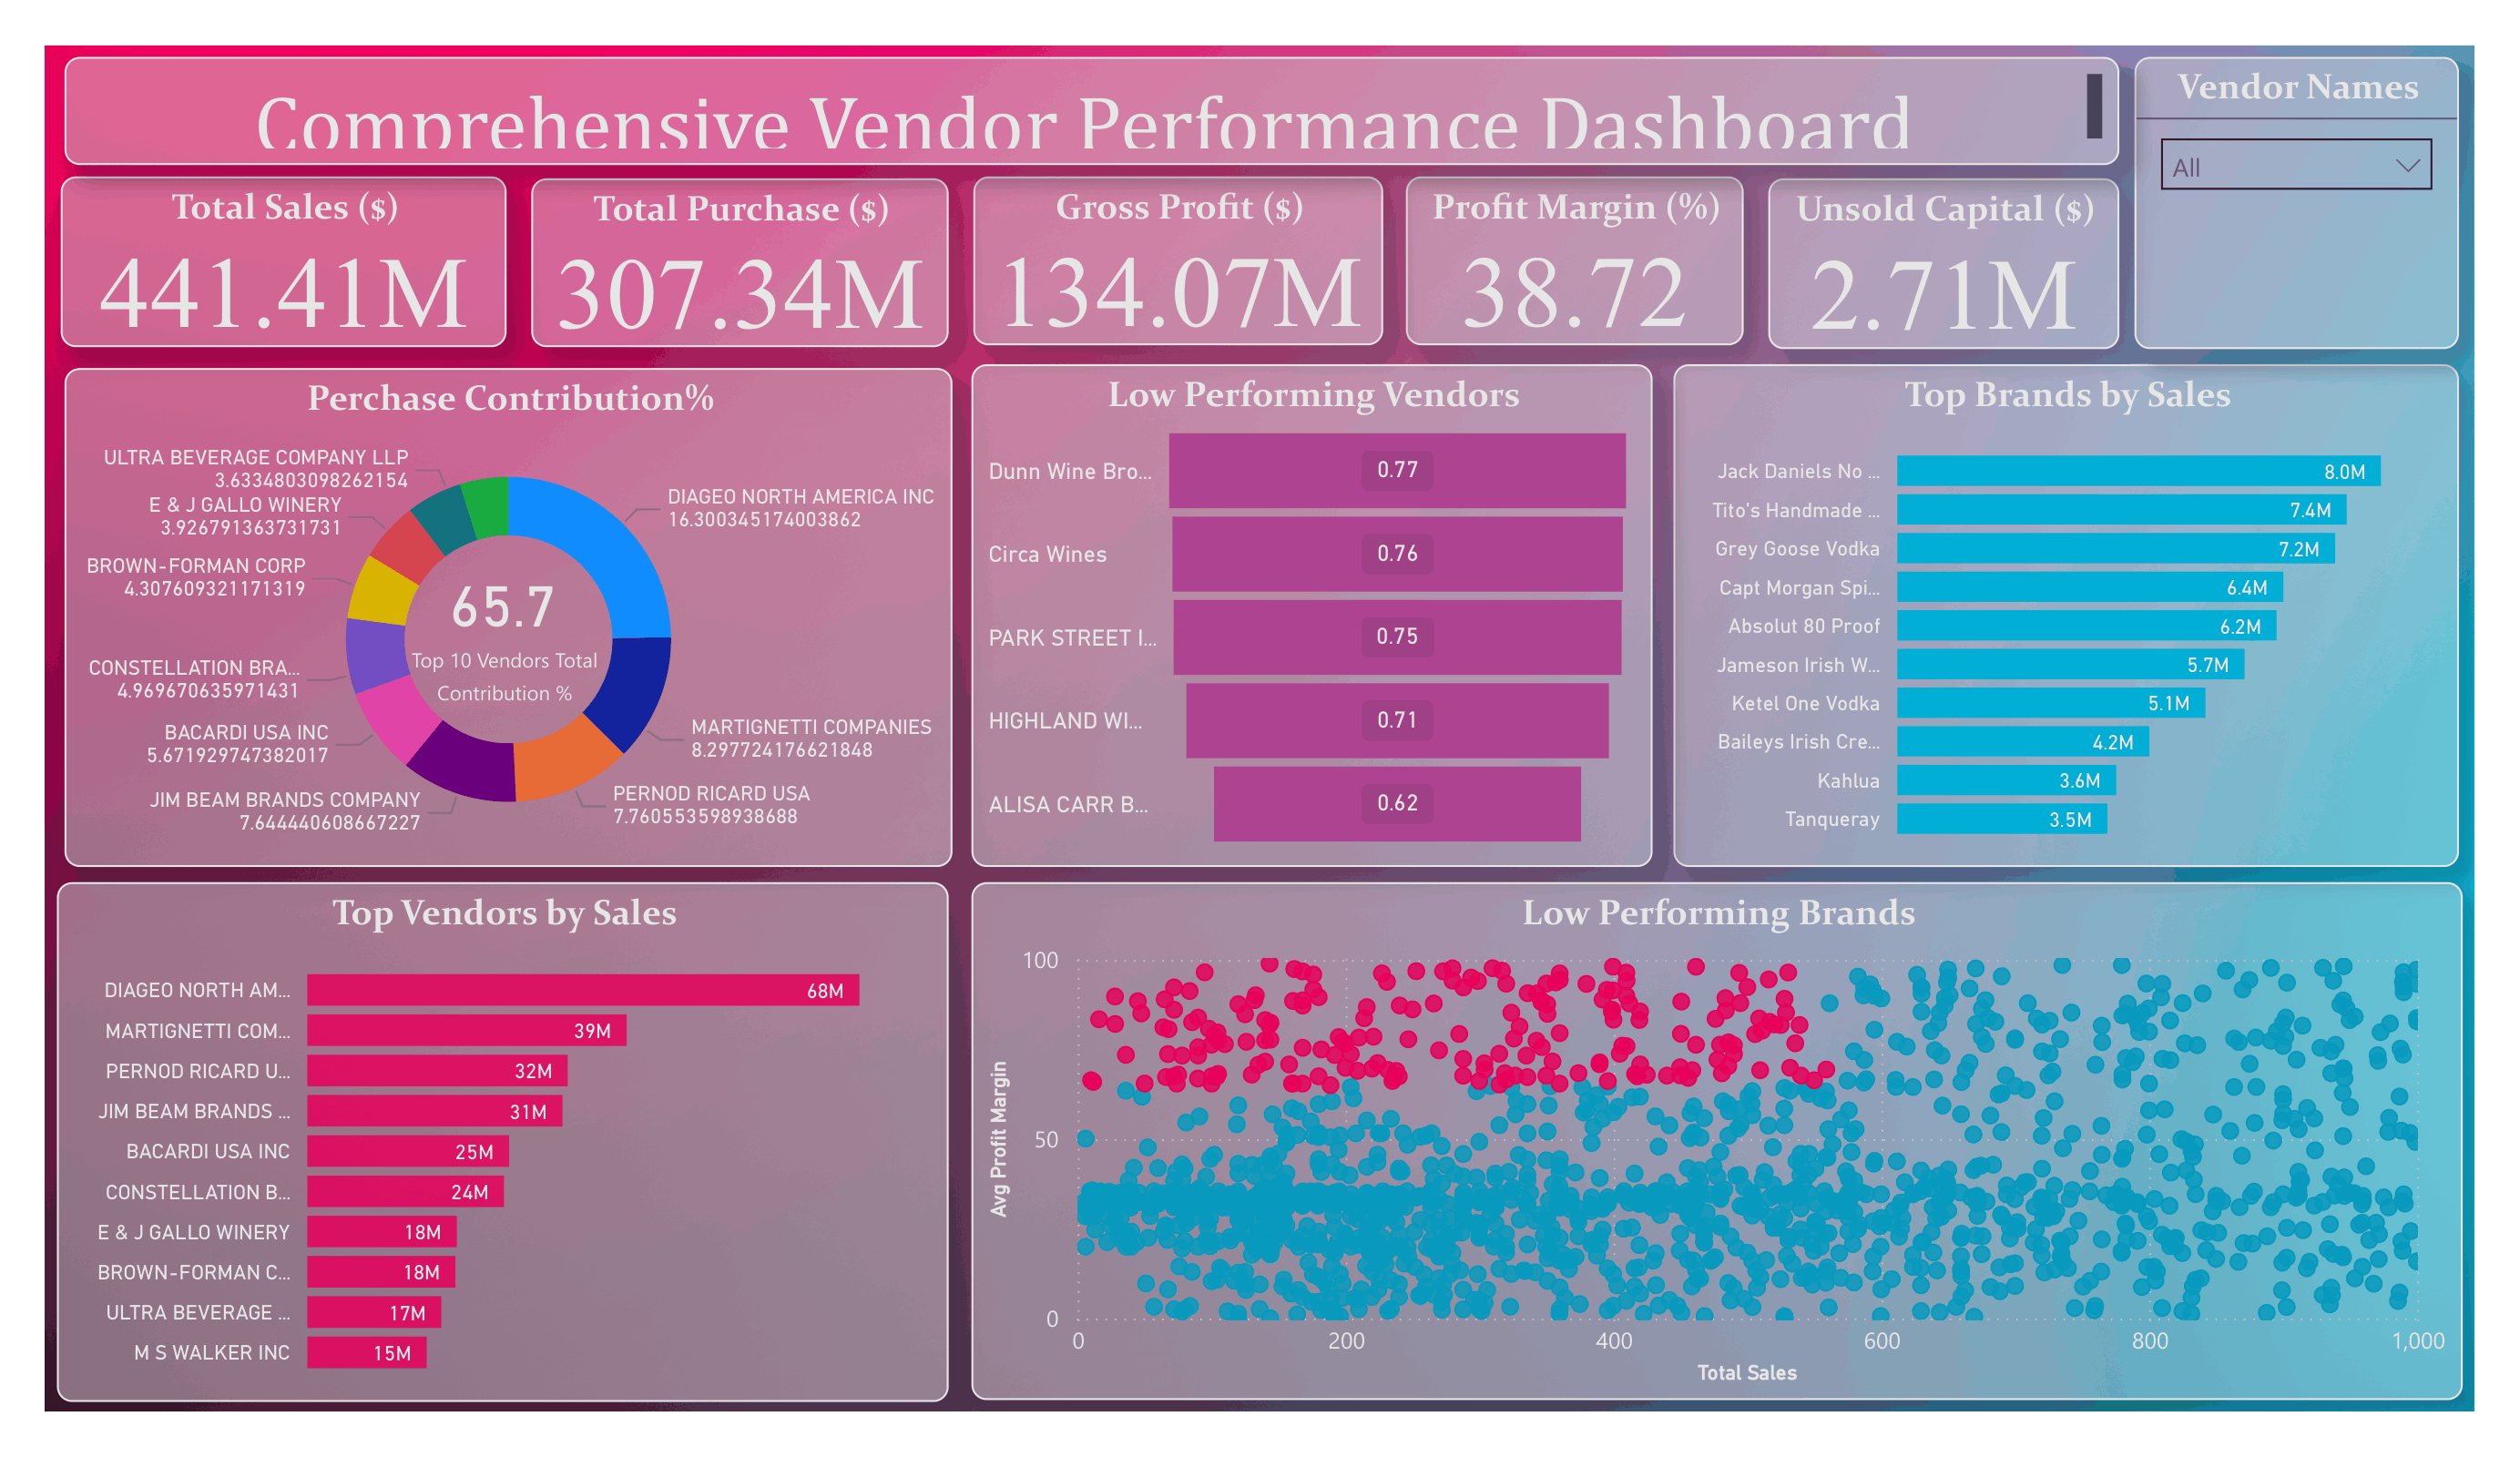

Layout of this report page (visuals, bound fields, positions):
{"tool":"powerbi","page":{"name":"Page 1","canvas":[1280,720],"ordinal":0},"visuals":[{"type":"card","title":"Total Sales ($)","fields":{"Values":["Sum(vendor_sales_summary.TotalSalesDollars)"]},"box":[8,68.8,235.2,89.8],"z":0},{"type":"card","title":"Profit Margin (%)","fields":{"Values":["Avg(vendor_sales_summary.ProfitMargin)"]},"box":[717,69.3,178.4,88.6],"z":1000},{"type":"card","title":"Gross Profit ($)","fields":{"Values":["Sum(vendor_sales_summary.GrossProfit)"]},"box":[488.6,69,215.9,88.6],"z":2000},{"type":"card","title":"Total Purchase ($)","fields":{"Values":["Sum(vendor_sales_summary.TotalPurchaseDollars)"]},"box":[255.7,69.6,220.5,89.8],"z":3000},{"type":"card","title":"Unsold Capital ($)","fields":{"Values":["Sum(vendor_sales_summary.UnsoldCapital)"]},"box":[908,70.5,185.2,89.8],"z":4000},{"type":"donutChart","title":"Perchase Contribution%","fields":{"Category":["New_PurchaseContribution.VendorName"],"Y":["Sum(New_PurchaseContribution.PerchaseContribution%)"]},"box":[10.2,169.6,467.9,263.9],"z":5000},{"type":"clusteredBarChart","title":"Top Vendors by Sales","fields":{"Category":["vendor_sales_summary.VendorName"],"Y":["Sum(vendor_sales_summary.TotalSalesDollars)"]},"box":[6.3,441.1,469.5,273.7],"z":6000},{"type":"clusteredBarChart","title":"Top Brands by Sales","fields":{"Category":["vendor_sales_summary.Description"],"Y":["Sum(vendor_sales_summary.TotalSalesDollars)"]},"box":[858,168.2,413.6,264.8],"z":7000},{"type":"funnel","title":"Low Performing Vendors","fields":{"Category":["New_LowTurnoverVendor.VendorName"],"Y":["Avg(New_LowTurnoverVendor.AvgStockTurnover)"]},"box":[488.4,168.4,358.9,264.2],"z":8000},{"type":"scatterChart","title":"Low Performing Brands","fields":{"Category":["New_BrandPerformance.Description"],"X":["Sum(New_BrandPerformance.Total Sales)"],"Series":["New_BrandPerformance.TargetBrand"],"Y":["Avg(New_BrandPerformance.AvgProfitMargin)"]},"box":[488.4,441.1,785.3,272.6],"z":9000},{"type":"card","fields":{"Values":["Sum(New_PurchaseContribution.PerchaseContribution%)"]},"box":[204.2,272.6,72.6,41.1],"z":10000},{"type":"textbox","box":[187.4,309.5,109.5,54.7],"z":11000},{"type":"slicer","title":"Vendor Names","fields":{"Values":["New_PurchaseContribution.VendorName"]},"box":[1101.1,5.7,170.5,154.5],"z":12000},{"type":"textbox","box":[10.2,5.7,1083,56.8],"z":13000}]}

Visuals, with their boxes in screenshot pixels (x1, y1, x2, y2):
"Total Sales ($)" card: Rect(36, 153, 492, 328)
"Profit Margin (%)" card: Rect(1412, 154, 1758, 326)
"Gross Profit ($)" card: Rect(968, 154, 1387, 326)
"Total Purchase ($)" card: Rect(516, 155, 944, 329)
"Unsold Capital ($)" card: Rect(1782, 157, 2142, 331)
"Perchase Contribution%" donutChart: Rect(39, 349, 948, 861)
"Top Vendors by Sales" clusteredBarChart: Rect(32, 876, 944, 1407)
"Top Brands by Sales" clusteredBarChart: Rect(1686, 346, 2488, 861)
"Low Performing Vendors" funnel: Rect(968, 347, 1665, 860)
"Low Performing Brands" scatterChart: Rect(968, 876, 2493, 1405)
card - Sum(New_PurchaseContribution.PerchaseContribution%): Rect(416, 549, 557, 628)
textbox: Rect(383, 620, 597, 727)
"Vendor Names" slicer: Rect(2158, 31, 2488, 331)
textbox: Rect(39, 31, 2142, 141)
